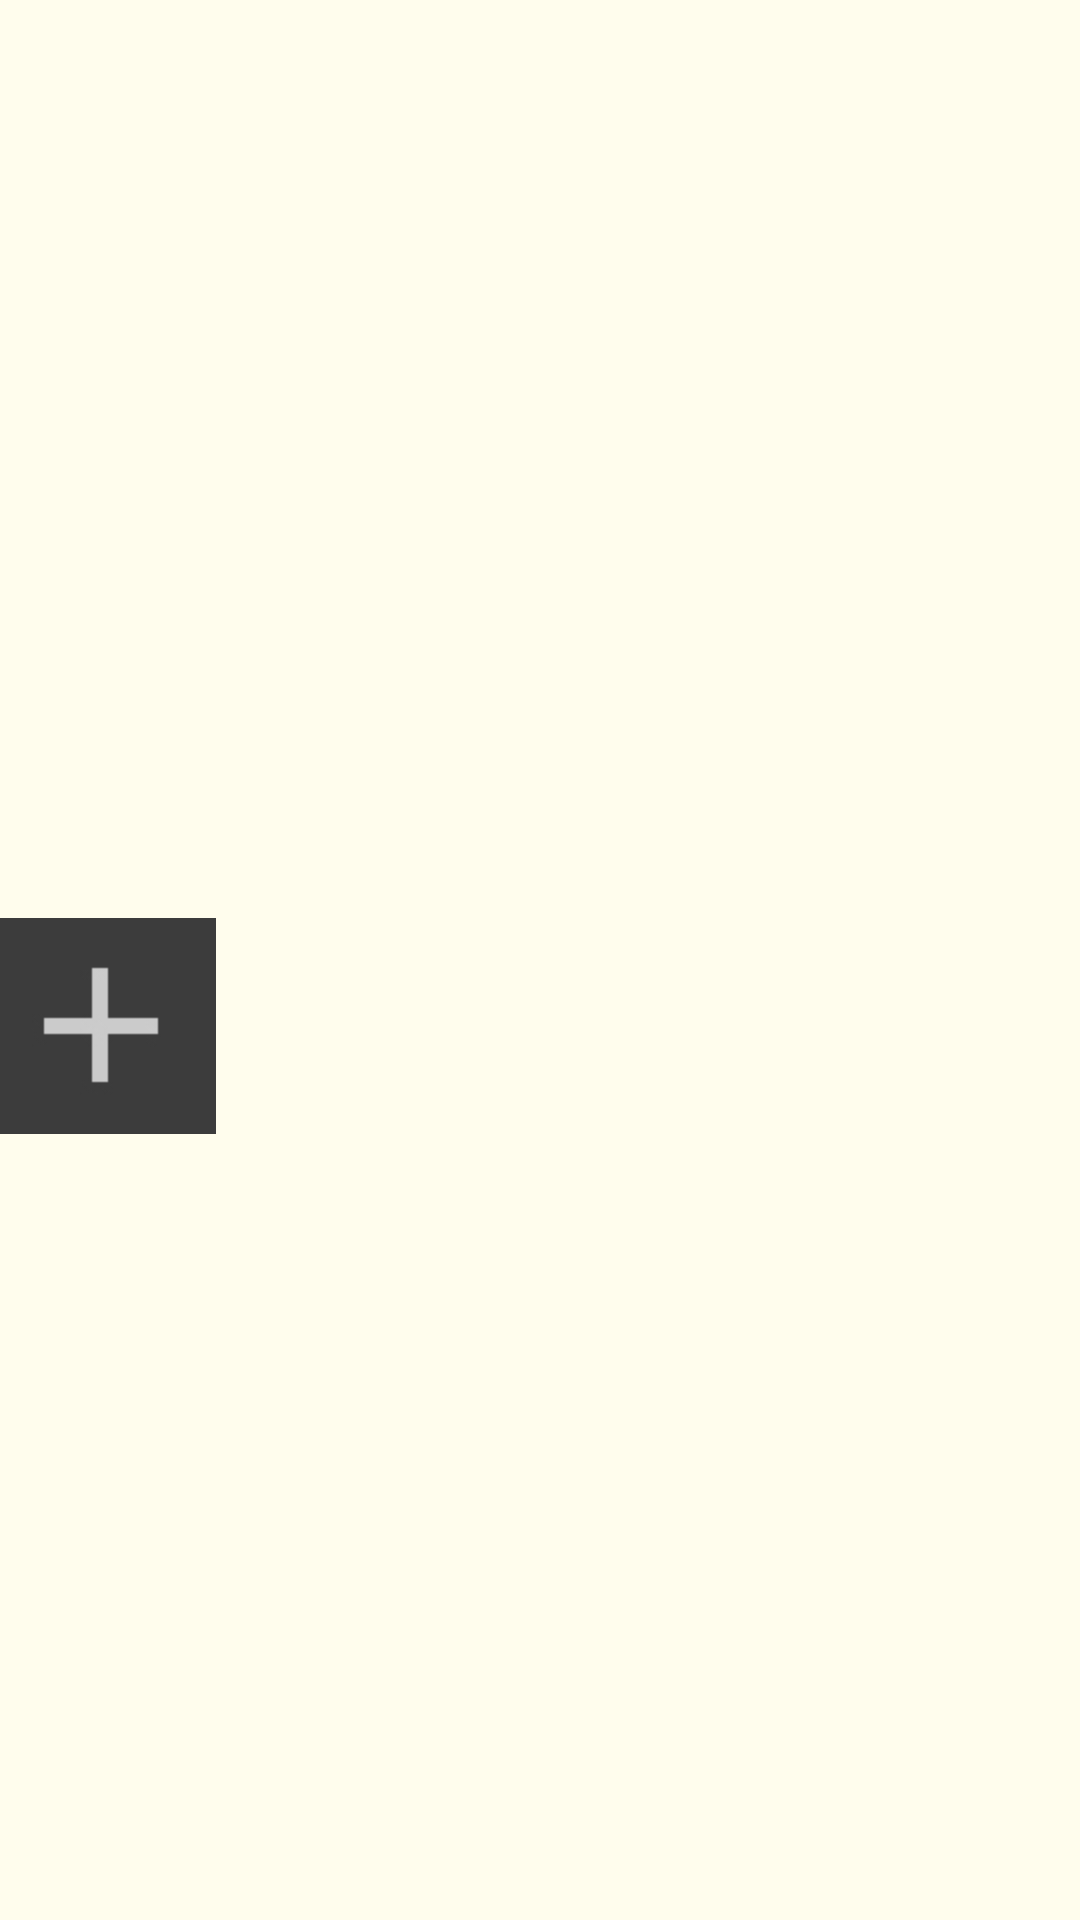

Where to tap for icons on this 1080 × 1920 app screen, as (x=x, y=y):
plus: (x=108, y=1026)
